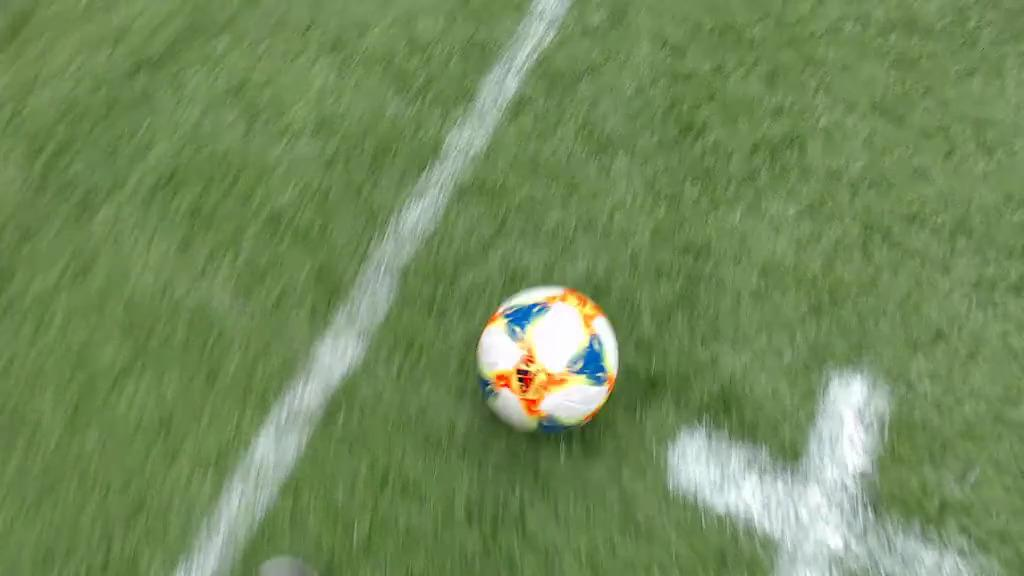ball: (477, 286, 619, 435)
